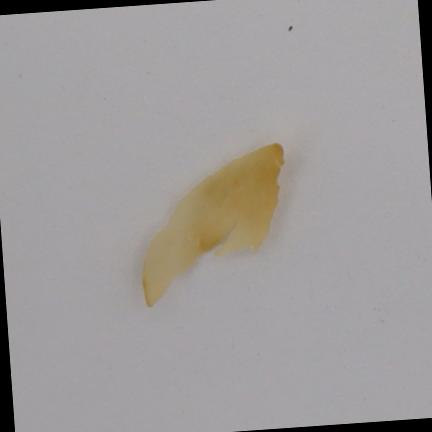parchment: (142, 144, 284, 305)
